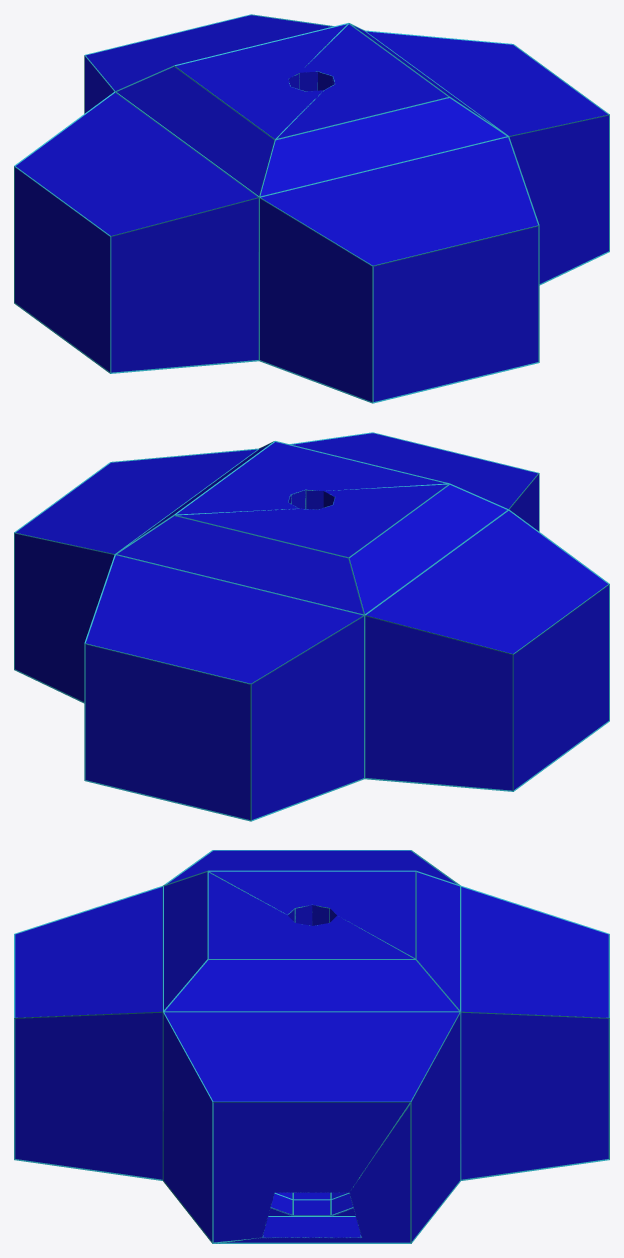
File: struct3.dae
The picture shows the model from 3 angles, top to bottom: view 1: azimuth 30°, elevation 25°; view 2: azimuth 150°, elevation 25°; view 3: azimuth 270°, elevation 25°; orthographic projection. The views are drawn at different scales.
Parts seen in each view (by area): view 1: Export_struct3_a, Export_struct3_b; view 2: Export_struct3_a, Export_struct3_b; view 3: Export_struct3_a, Export_struct3_b.
Boxes of the visible parts, bbox=[...] form: Export_struct3_a: bbox=[15, 15, 608, 401]; Export_struct3_b: bbox=[14, 14, 609, 403]; Export_struct3_a: bbox=[15, 433, 608, 819]; Export_struct3_b: bbox=[14, 432, 609, 821]; Export_struct3_a: bbox=[15, 850, 608, 1242]; Export_struct3_b: bbox=[14, 850, 609, 1243].
Size of what is drawn, in the model's own units: 192 by 192 by 72.45.
